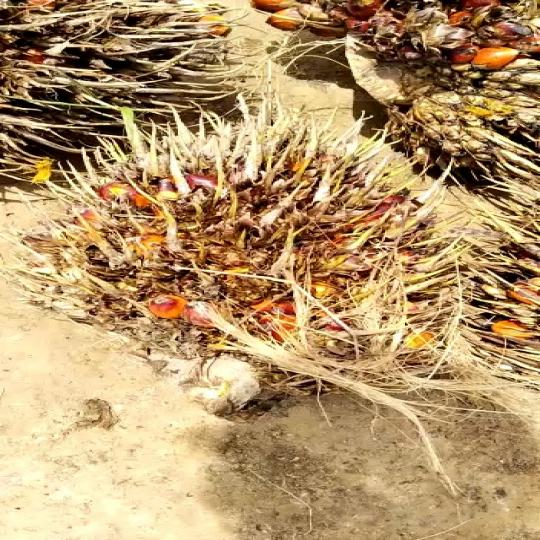terlalu masak: (7, 107, 454, 462)
